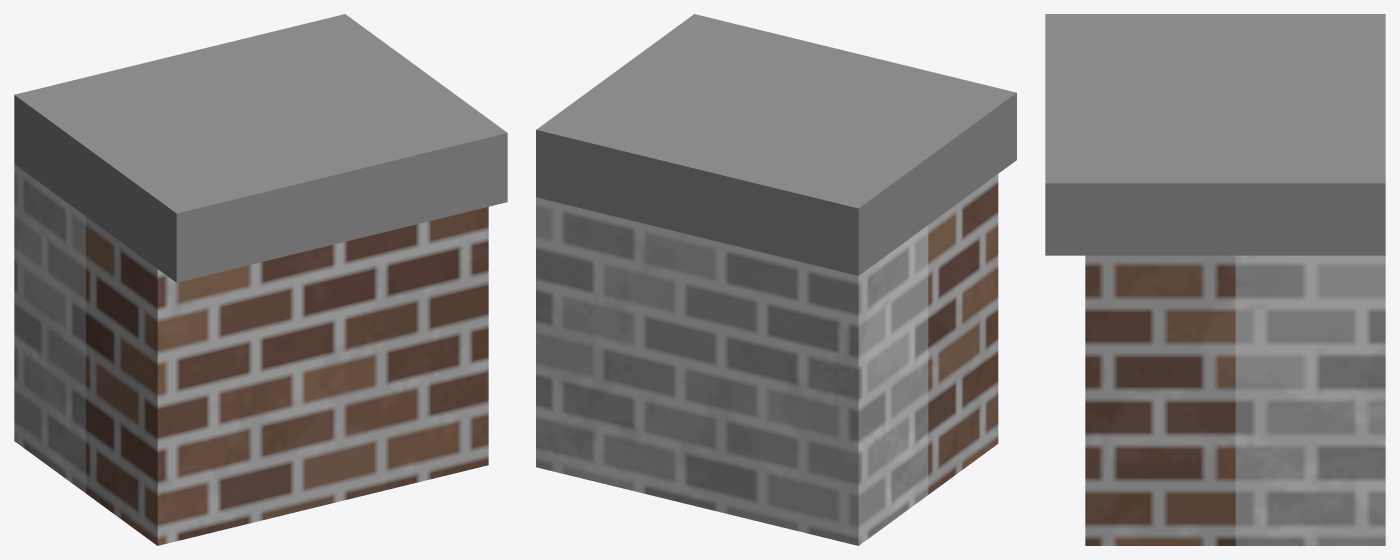
File: Middle_Wall_003.FBX
3 renders of one model, left to right at view 1: azimuth 30°, elevation 25°; view 2: azimuth 150°, elevation 25°; view 3: azimuth 270°, elevation 25°, orthographic. The views are drawn at different scales.
Parts seen in each view (by area): view 1: Middle_Wall_003; view 2: Middle_Wall_003; view 3: Middle_Wall_003.
Boxes of the visible parts, x1,y1,x2,y2 form: Middle_Wall_003: (14, 14, 507, 545); Middle_Wall_003: (536, 14, 1016, 545); Middle_Wall_003: (1045, 14, 1385, 545).
Bounding box in the file's own units: 100 × 85 × 100.
